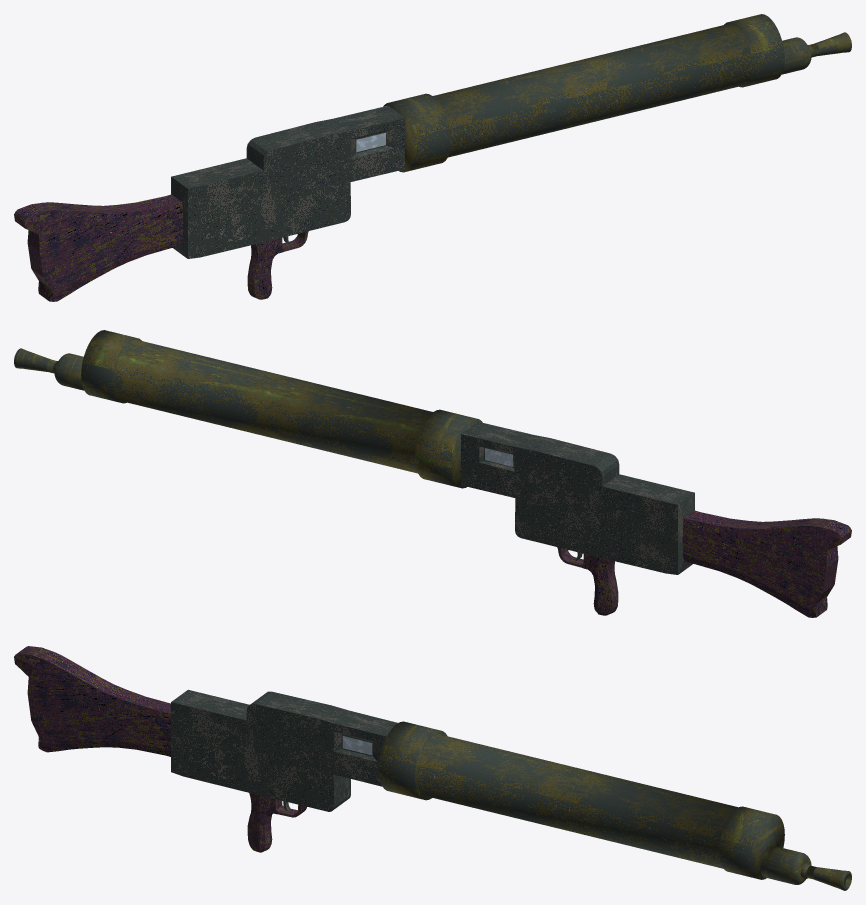
The picture shows the model from 3 angles, top to bottom: view 1: azimuth 30°, elevation 25°; view 2: azimuth 150°, elevation 25°; view 3: azimuth 330°, elevation 25°; orthographic projection.
Visible parts, largest first — view 1: Machinegun; view 2: Machinegun; view 3: Machinegun.
Boxes of the visible parts, left/top/right/bottom form: Machinegun: left=14, top=14, right=851, bottom=301; Machinegun: left=14, top=330, right=851, bottom=617; Machinegun: left=14, top=646, right=851, bottom=890.
Size of the model in its own units: 2.27 by 0.4152 by 0.1694.
4 materials, 4 textured.
